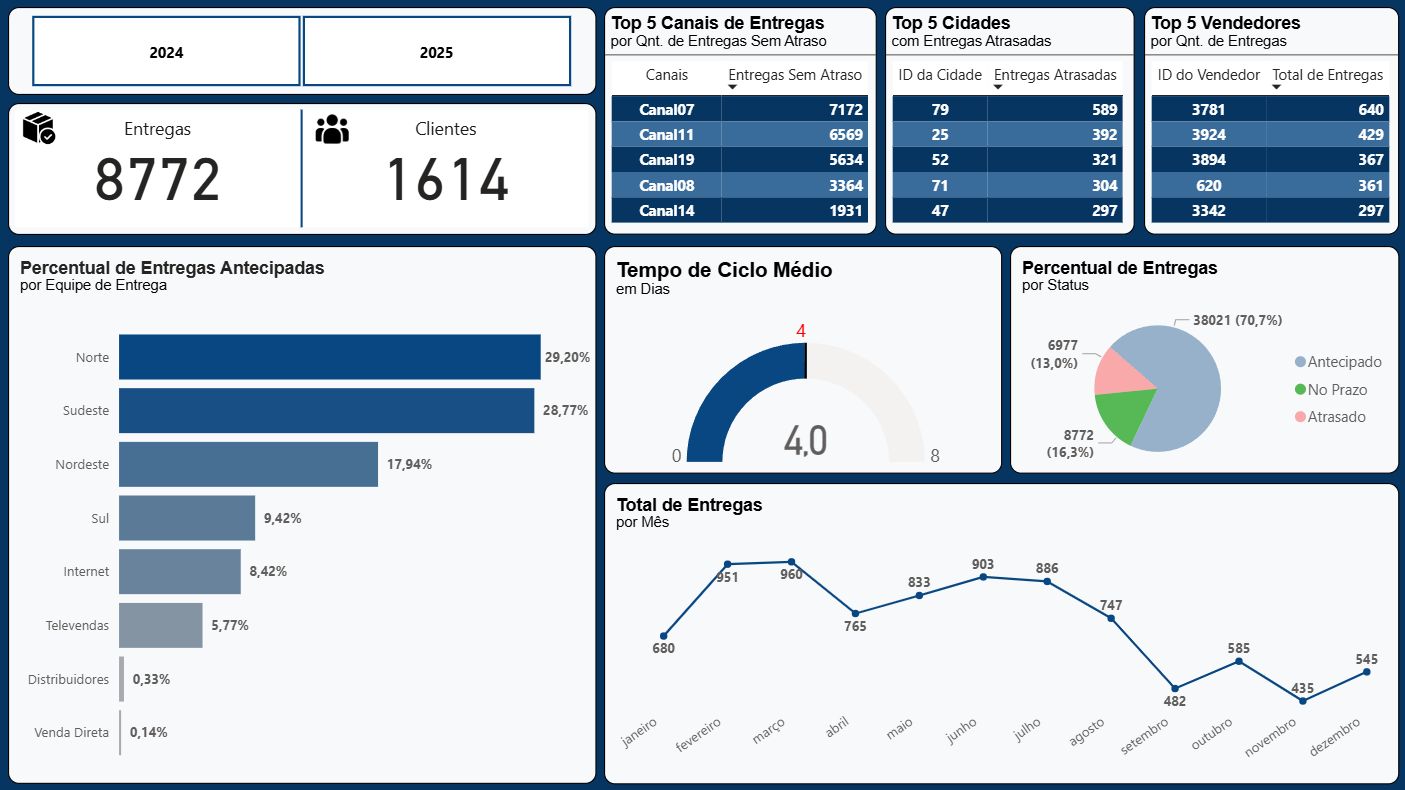

The dashboard page shown, as its layout file describes it:
{"tool":"powerbi","page":{"name":"Dashboard","canvas":[1280,720],"ordinal":0},"visuals":[{"type":"tableEx","title":"Top 5 Canais de Entregas","fields":{"Values":["Logistica.Canal_Entrega","Tabela.Entregas_no_Prazo"]},"box":[550,7.3,248.2,207.3],"z":0},{"type":"barChart","title":"Percentual de Entregas Antecipadas","fields":{"Category":["Logistica.Equipe_Entrega"],"Y":["Medidas.Entregas_Antecipadas"]},"box":[8.2,224.5,535.5,489.1],"z":1000},{"type":"lineChart","title":"Total de Entregas","fields":{"Y":["Medidas.Total_Entregas"],"Category":["Logistica.Data_Entrega_Realizada.Variation.Hierarquia de datas.Mês"]},"box":[550,440,722.7,273.6],"z":2000},{"type":"tableEx","title":"Top 5 Vendedores","fields":{"Values":["Logistica.ID_Vendedor","Tabela.Total_Entregas"]},"box":[1040.9,7.3,231.8,207.3],"z":3000},{"type":"tableEx","title":"Top 5 Cidades","fields":{"Values":["Logistica.ID_Cidade","Tabela.Entragas_Atrasadas"]},"box":[805.5,7.3,227.3,207.3],"z":4000},{"type":"pieChart","title":"Percentual de Entregas","fields":{"Category":["Logistica.Status_Entrega"],"Y":["Divide(CountNonNull(Logistica.Status_Entrega), ScopedEval(CountNonNull(Logistica.Status_Entrega), []))"]},"box":[919.1,224.5,353.6,207.3],"z":5000},{"type":"gauge","title":"Tempo de Ciclo Médio","fields":{"Y":["Avg(Logistica.Dias_Entrega)"]},"box":[550,224.5,361.8,207.3],"z":6000},{"type":"cardVisual","title":"Entregas","fields":{"Data":["Medidas.Total_Entregas","Count(Logistica.ID_Cliente)"]},"box":[8.2,94.9,535.5,119.6],"z":7000,"group":"g1"},{"type":"slicer","title":"Selecione o Período","fields":{"Values":["Logistica.Data_Entrega_Realizada.Variation.Hierarquia de datas.Ano"]},"box":[8.2,7.3,534.5,80],"z":8000},{"type":"image","box":[8.2,94.5,55.4,46],"z":9000,"group":"g1"},{"type":"image","box":[280.6,98.1,44.7,39.7],"z":10000,"group":"g1"},{"type":"group","id":"g1","title":"Grupo 1","box":[8.2,94.5,535.5,120],"z":10001}]}

Visuals, with their boxes in screenshot pixels (x1, y1, x2, y2), scaled from the page's 1280x720 canvas onto the 1405x790 screenshot:
"Top 5 Canais de Entregas" tableEx: 604/8/876/235
"Percentual de Entregas Antecipadas" barChart: 9/246/597/783
"Total de Entregas" lineChart: 604/483/1397/783
"Top 5 Vendedores" tableEx: 1143/8/1397/235
"Top 5 Cidades" tableEx: 884/8/1134/235
"Percentual de Entregas" pieChart: 1009/246/1397/474
"Tempo de Ciclo Médio" gauge: 604/246/1001/474
"Entregas" cardVisual: 9/104/597/235
"Selecione o Período" slicer: 9/8/596/96
image: 9/104/70/154
image: 308/108/357/151
"Grupo 1" group: 9/104/597/235
